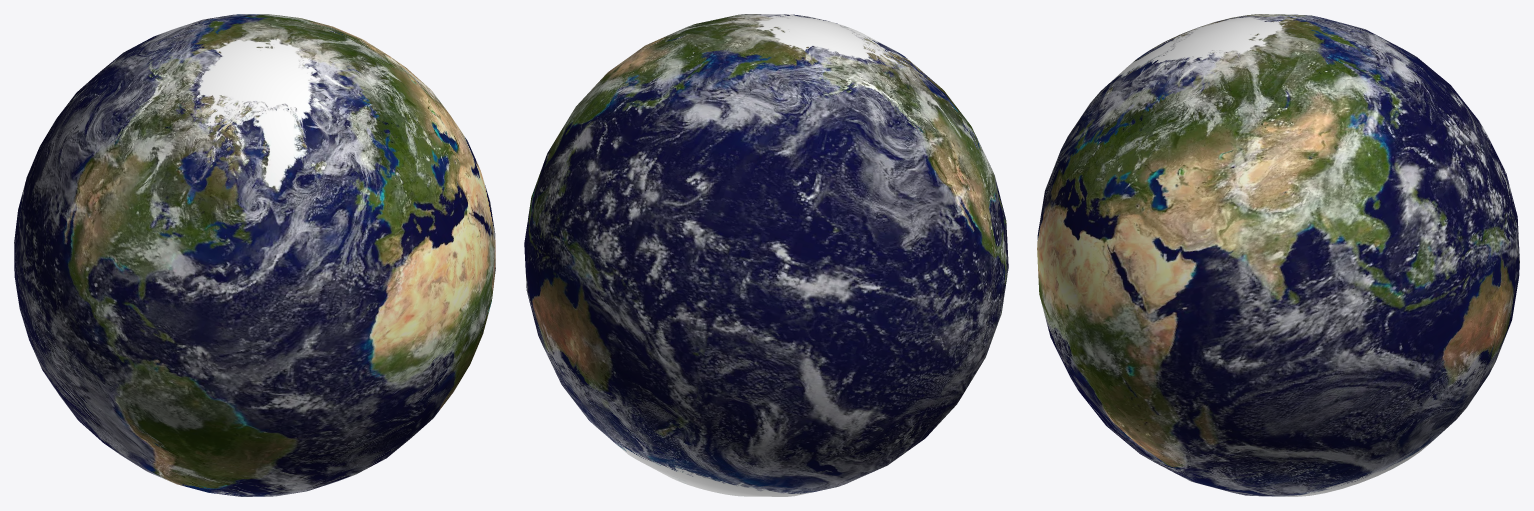
The model's file is earth-draco-transformed.glb.
The picture shows the model from 3 angles, left to right: view 1: azimuth 30°, elevation 25°; view 2: azimuth 150°, elevation 25°; view 3: azimuth 270°, elevation 25°; orthographic projection.
Visible parts, largest first — view 1: Earth; view 2: Earth; view 3: Earth.
Boxes of the visible parts, x1,y1,x2,y2 form: Earth: [14, 14, 495, 496]; Earth: [524, 14, 1008, 496]; Earth: [1037, 14, 1519, 496].
Size of the model in its own units: 21.12 by 21.26 by 21.19.
Materials: 1 (1 with a texture image).
